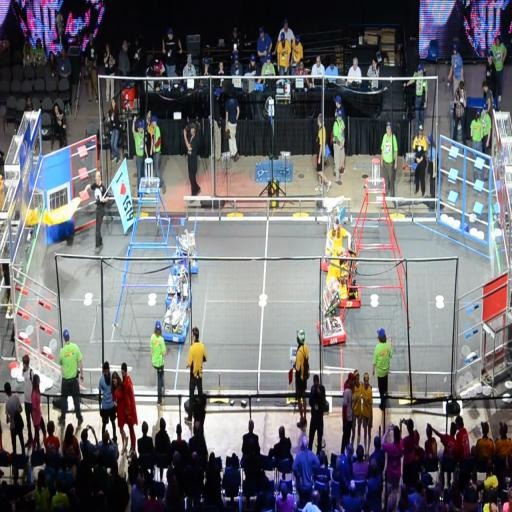robot: (319, 195, 352, 272), (317, 277, 347, 347), (336, 236, 363, 310), (160, 294, 190, 346), (170, 228, 198, 276), (166, 267, 194, 309)
